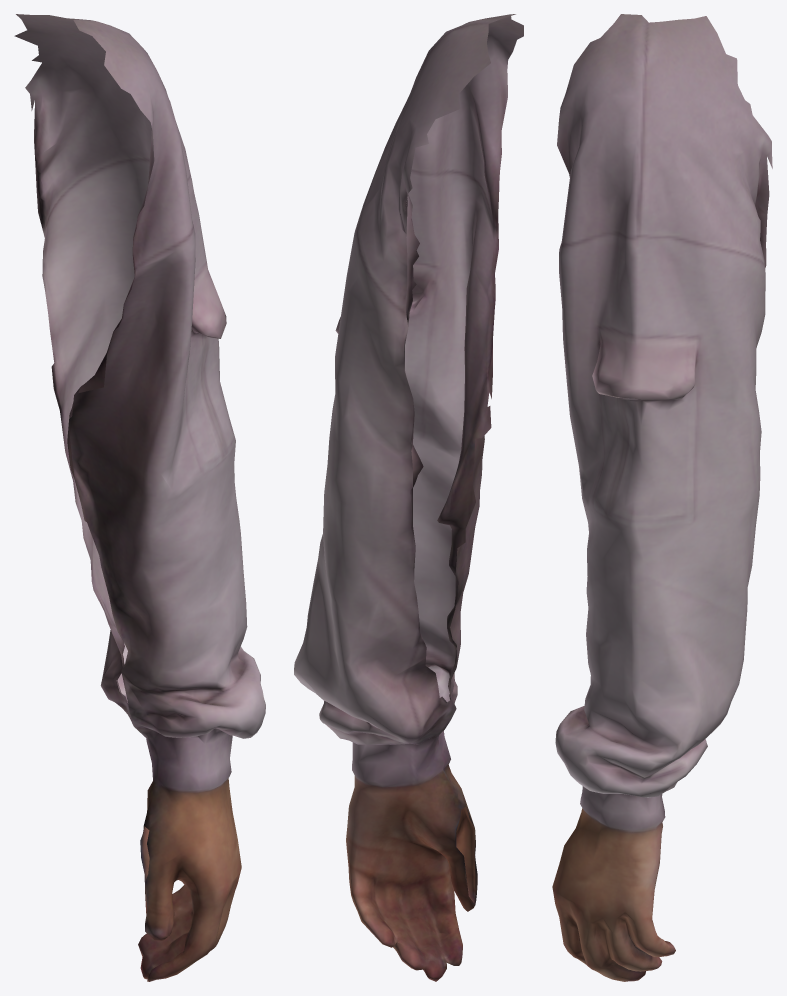
File: leftArm.obj
3 renders of one model, left to right at view 1: azimuth 30°, elevation 25°; view 2: azimuth 150°, elevation 25°; view 3: azimuth 270°, elevation 25°, orthographic. The views are drawn at different scales.
Parts seen in each view (by area): view 1: leftArm; view 2: leftArm; view 3: leftArm.
Part boxes in pixels (x1,y1,x2,y2): leftArm: (14,14,265,981); leftArm: (294,14,523,981); leftArm: (552,14,772,981).
Size of the model in its own units: 2.09 by 9.29 by 1.99.
Materials: 1 (1 with a texture image).
